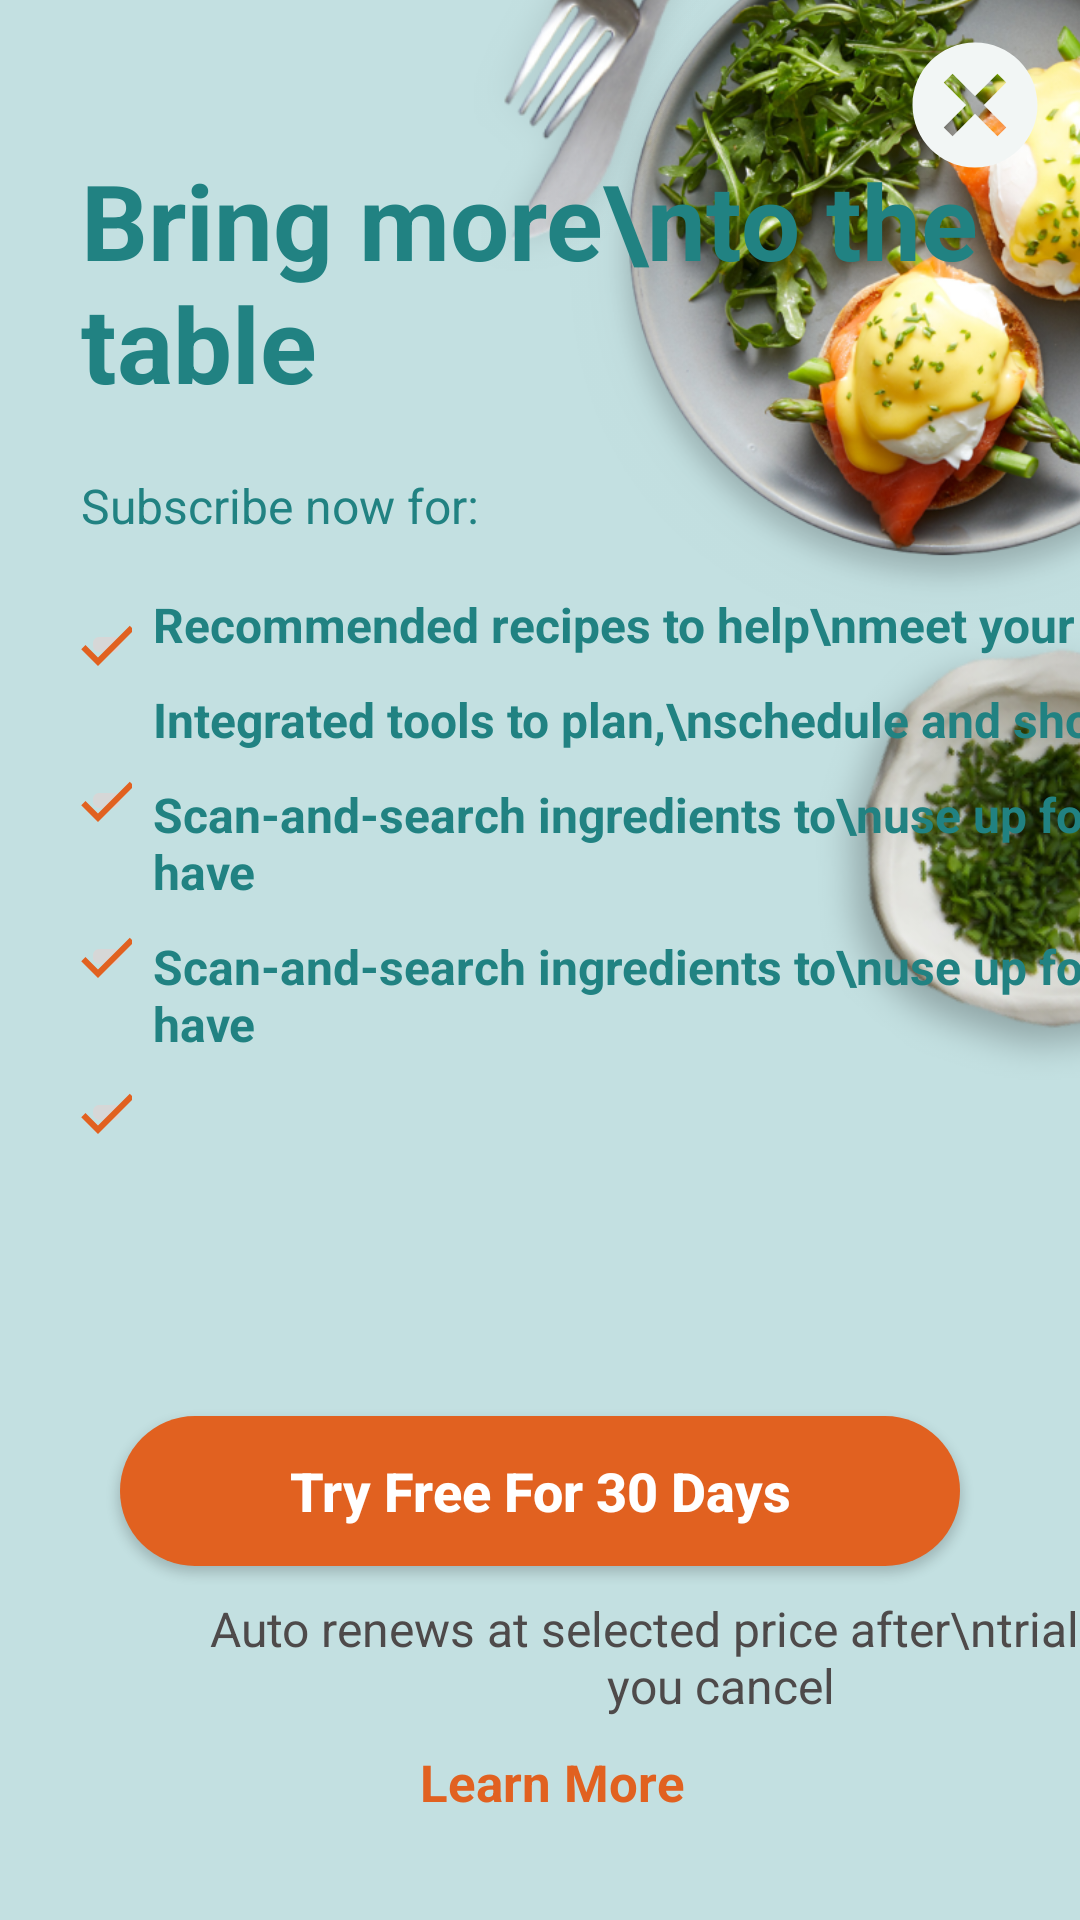

Named icons in this screenshot (1080 x 1920) and their centers, [x,y]:
cancel: [975,105]
check: [106,646], [106,802], [106,958], [106,1114]
